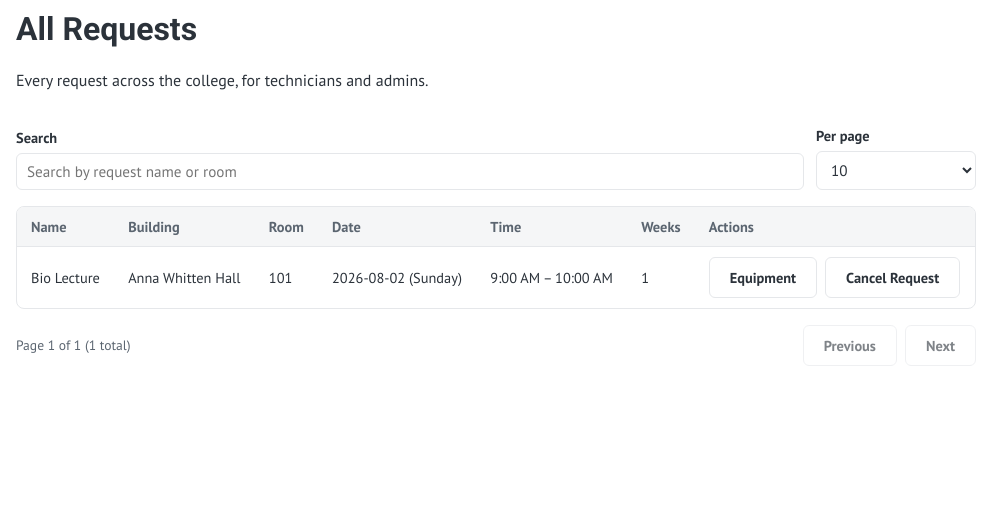
it: expands a request to show its assigned equipment
Expected: the text "Bio Lecture" is shown, [17,246,114,308]
Step 1. Click the button "Equipment" → {"x": 763, "y": 277}, box [709,257,817,298]
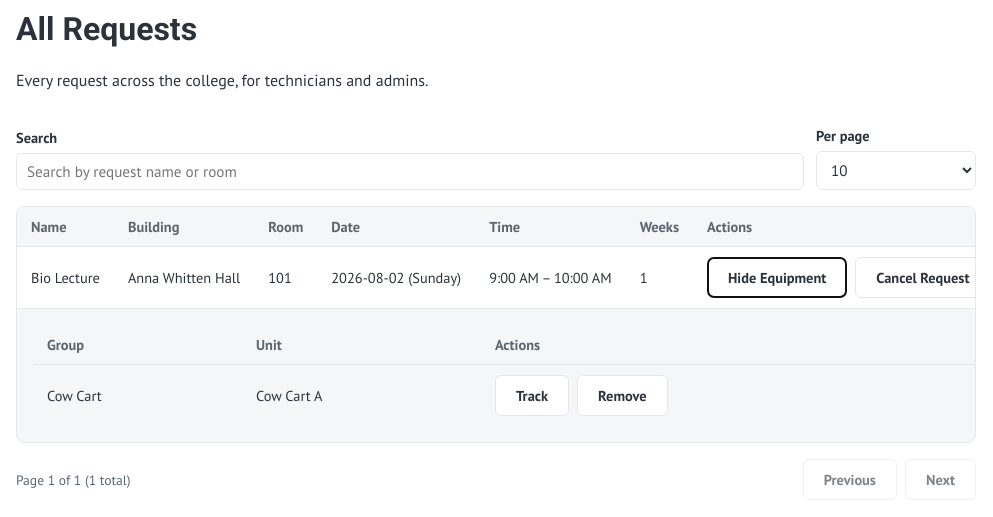
Expected: the text "Cow Cart A" is shown, [242,365,481,426]
